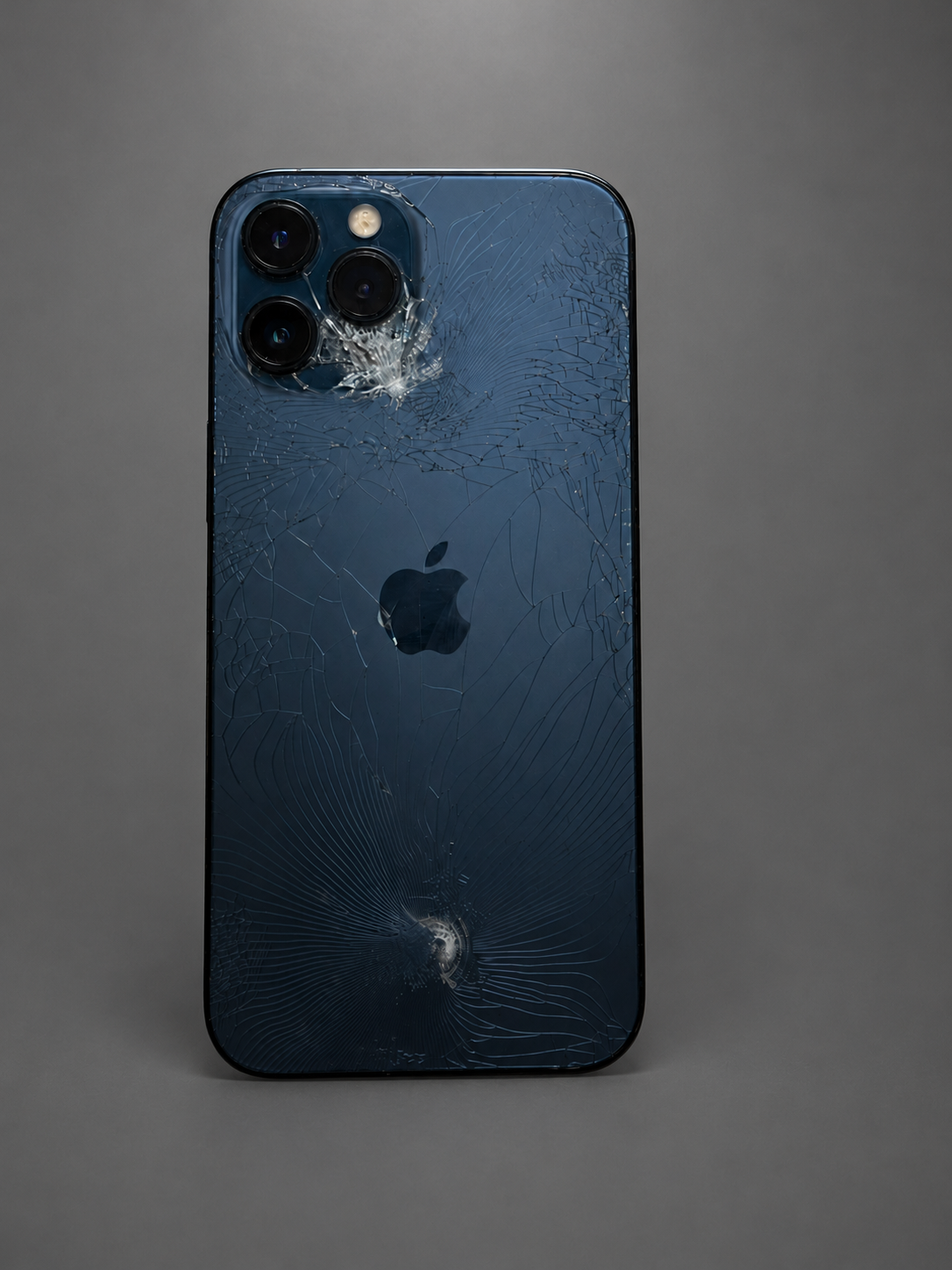iphone_12_pro_max_Crack: (159, 125, 712, 1114)
